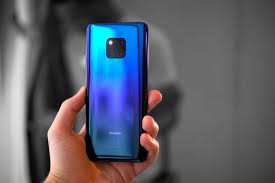huawei: (84, 21, 147, 163)
